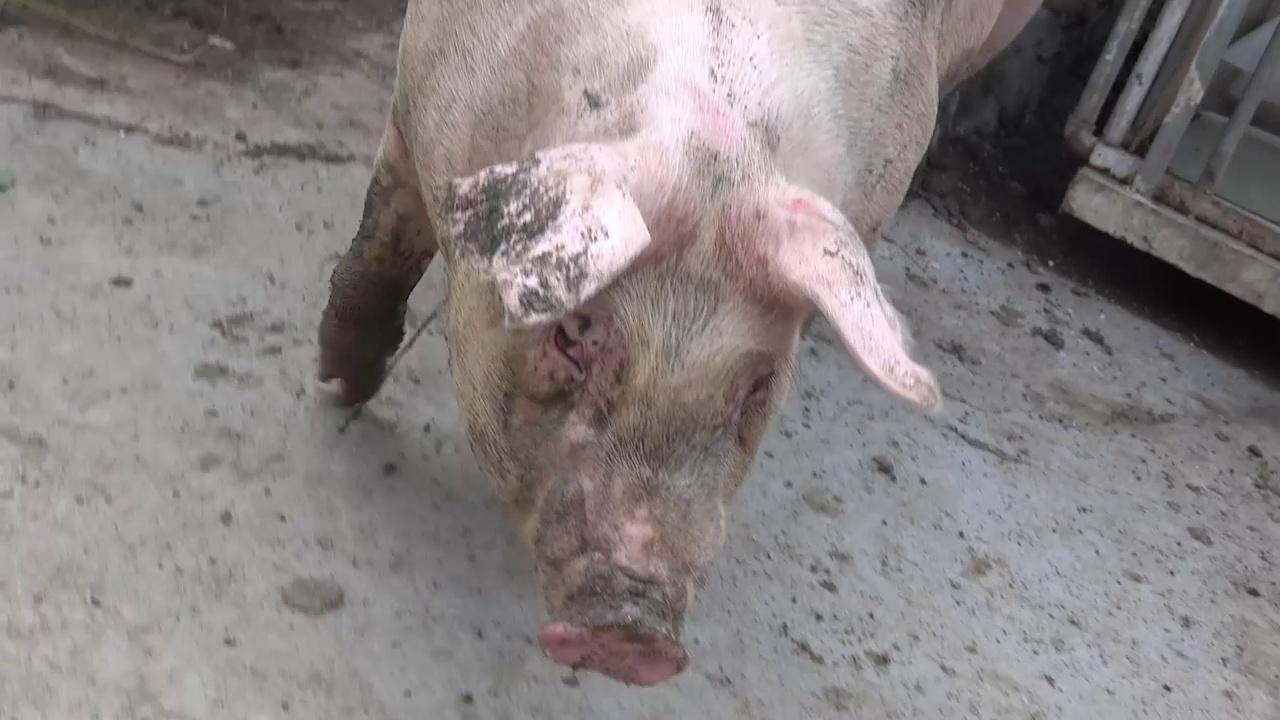Face: (427, 146, 947, 689)
